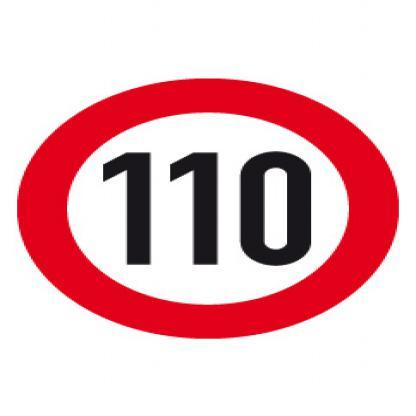Speed Limit 110: (22, 78, 399, 338)
